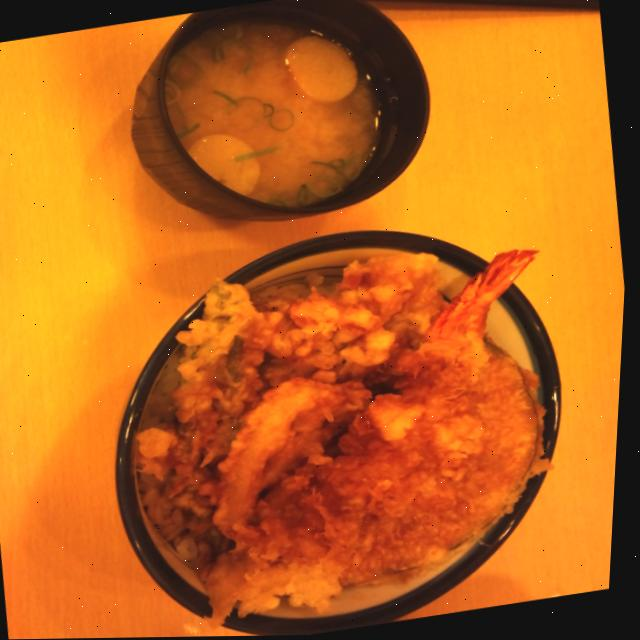汤锅炖物: (138, 0, 422, 217)
熟制海鲜: (102, 223, 592, 631)
